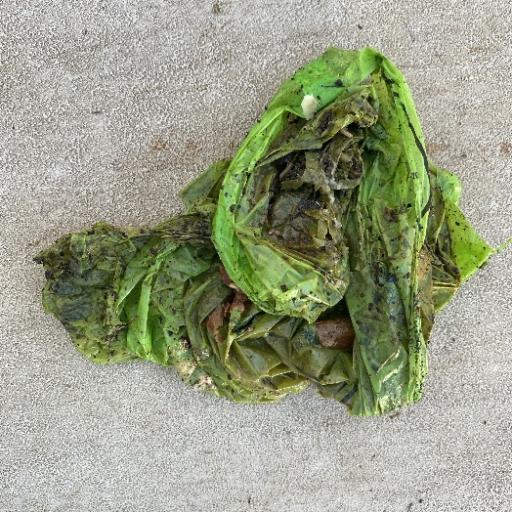Waste: (32, 45, 506, 418)
